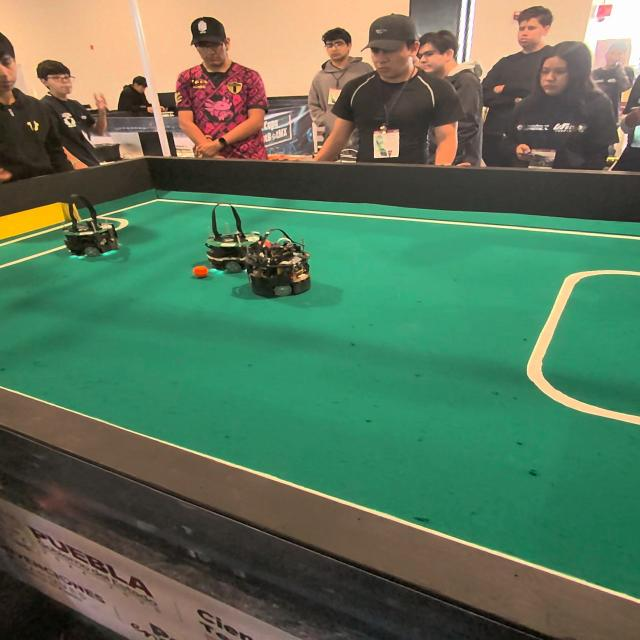Robot: (252, 216, 326, 305), (184, 203, 272, 269), (52, 201, 121, 266)
pelota: (191, 259, 211, 280)
